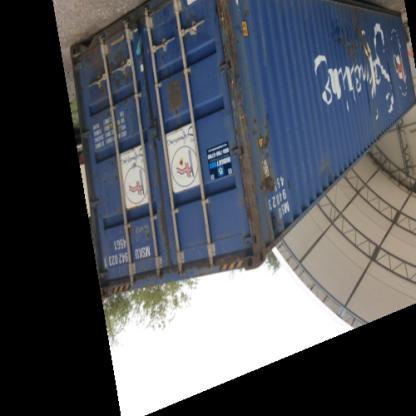Damage: (219, 13, 245, 114), (336, 6, 374, 68), (91, 56, 135, 100), (256, 126, 278, 197), (164, 72, 188, 122), (312, 156, 342, 184)
